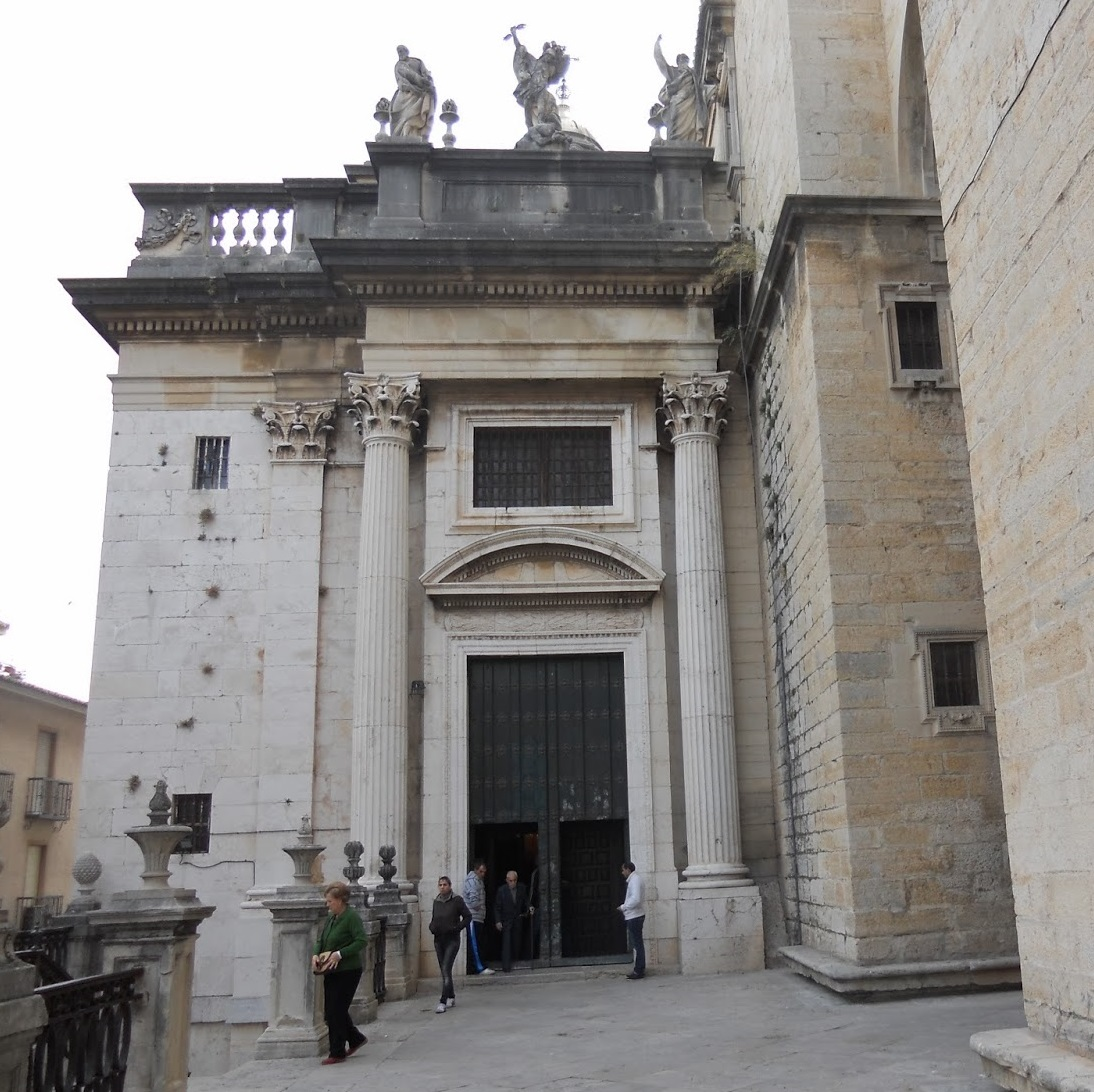fronton-curvo: (414, 521, 672, 608)
vano-adintelado: (432, 622, 659, 970)
